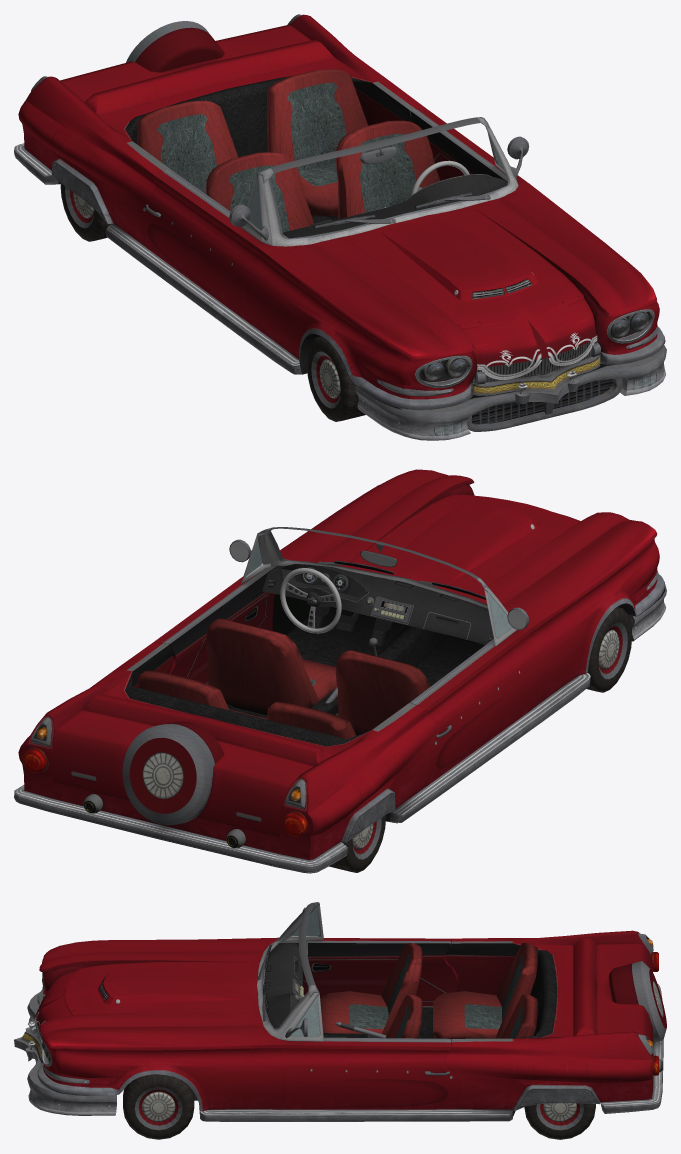
The model's file is oldConvertable.fbx.
3 views of the same model, one above another, from view 1: azimuth 30°, elevation 25°; view 2: azimuth 150°, elevation 25°; view 3: azimuth 270°, elevation 25° (orthographic). The views are drawn at different scales.
Parts seen in each view (by area): view 1: enzo_car:Mesh; view 2: enzo_car:Mesh; view 3: enzo_car:Mesh.
Boxes of the visible parts, left/top/right/bottom form: enzo_car:Mesh: left=14, top=14, right=666, bottom=440; enzo_car:Mesh: left=14, top=469, right=666, bottom=873; enzo_car:Mesh: left=14, top=902, right=666, bottom=1139.
Size of the model in its own units: 107 by 58.38 by 238.
15 materials, 15 textured.
